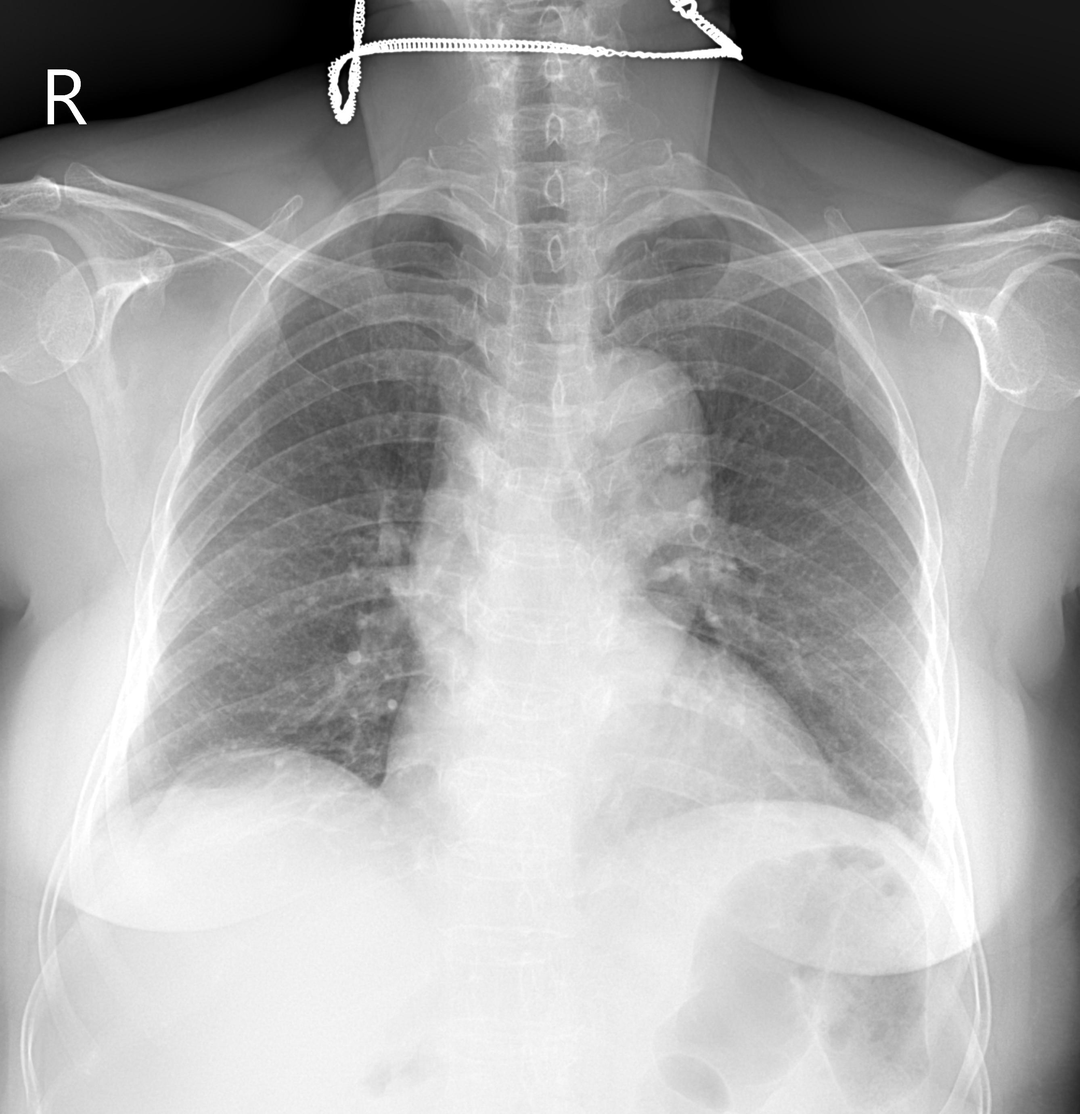Aortic enlargement: (556, 351, 720, 544)
Cardiomegaly: (371, 737, 854, 847)
Pleural thickening: (64, 781, 103, 886), (904, 722, 941, 831)
